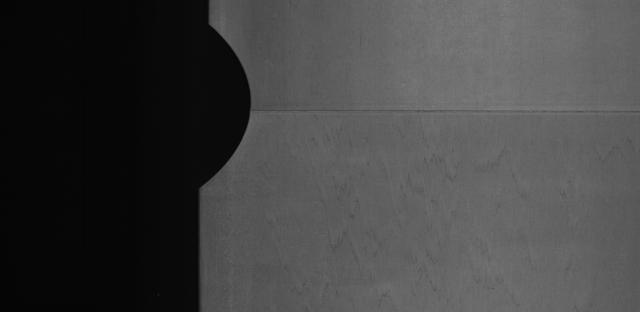welding_line: (237, 100, 638, 126)
